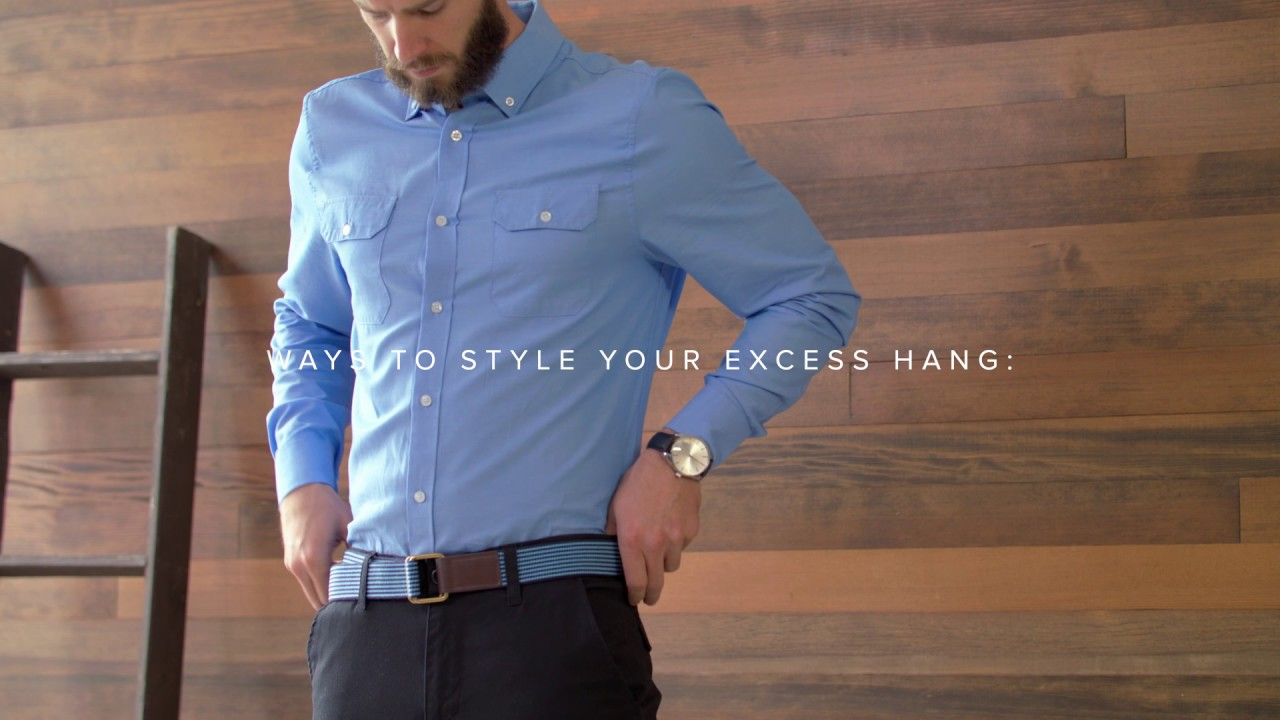F_belt: (312, 542, 626, 599)
F_shirt: (257, 58, 872, 566)
